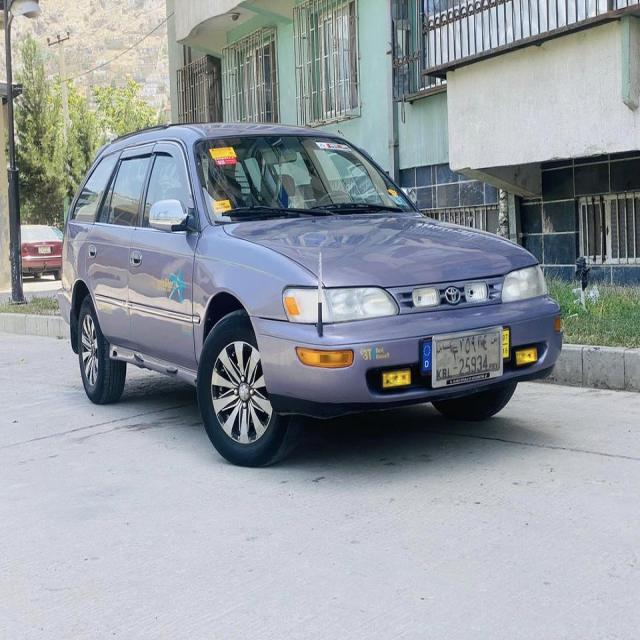Plate: (429, 328, 513, 390)
